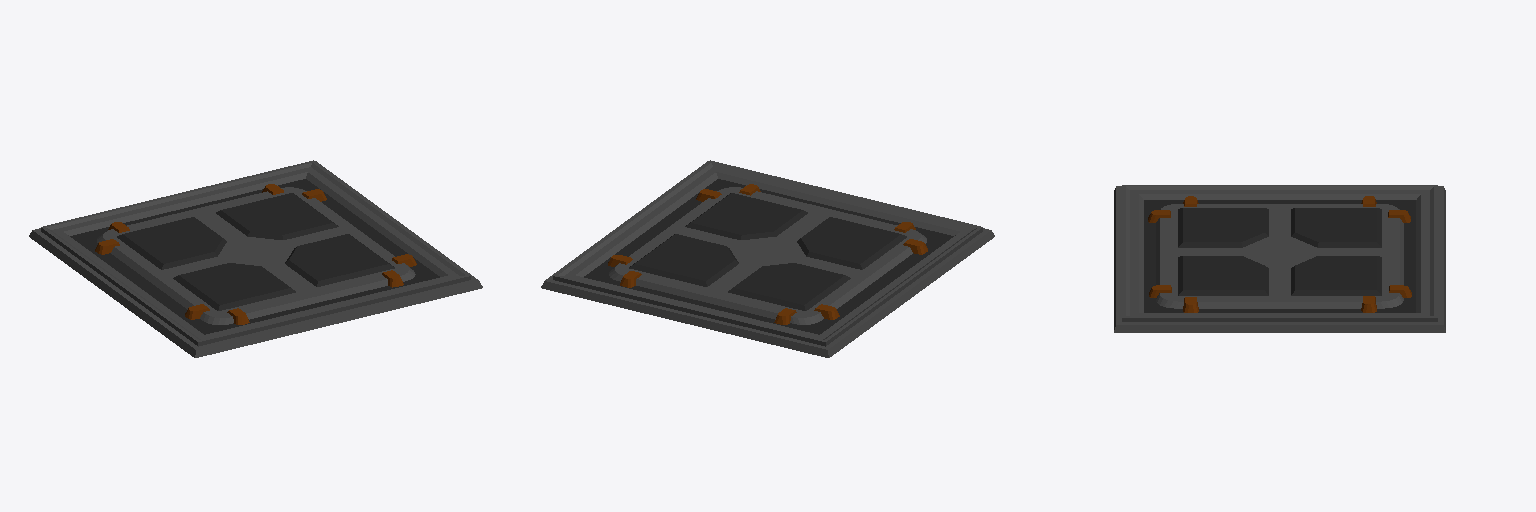
The model's file is RoofTile_Plate2.obj.
3 renders of one model, left to right at view 1: azimuth 30°, elevation 25°; view 2: azimuth 150°, elevation 25°; view 3: azimuth 270°, elevation 25°, orthographic.
Visible parts, largest first — view 1: RoofTile_Plate2_Plane.118; view 2: RoofTile_Plate2_Plane.118; view 3: RoofTile_Plate2_Plane.118.
Part boxes in pixels (bbox=[...]): RoofTile_Plate2_Plane.118: bbox=[29, 160, 482, 357]; RoofTile_Plate2_Plane.118: bbox=[541, 160, 994, 357]; RoofTile_Plate2_Plane.118: bbox=[1114, 185, 1445, 332].
Bounding box in the file's own units: 2 × 0.0935 × 2.